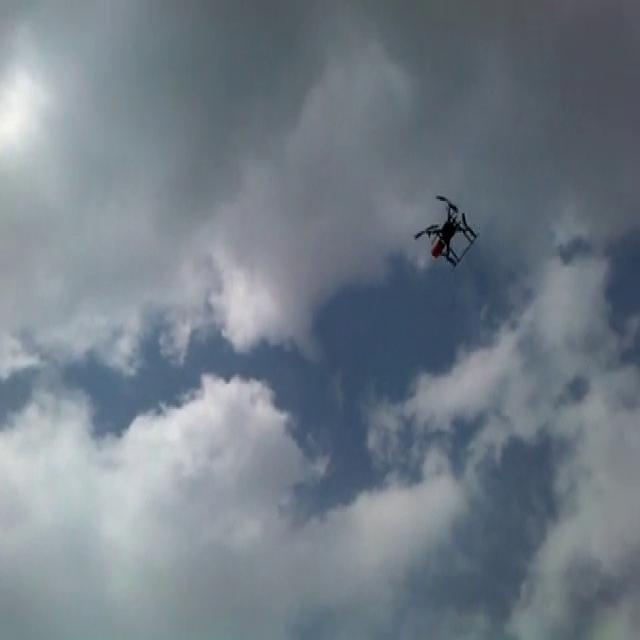drone: (410, 188, 480, 272)
